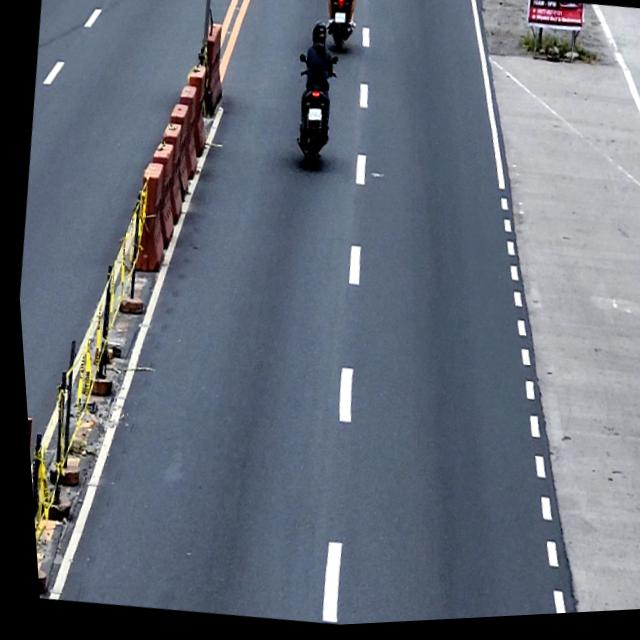License-Plate: (305, 111, 321, 125), (333, 16, 346, 28)
Motorcycle: (282, 54, 343, 175), (320, 0, 362, 58)
